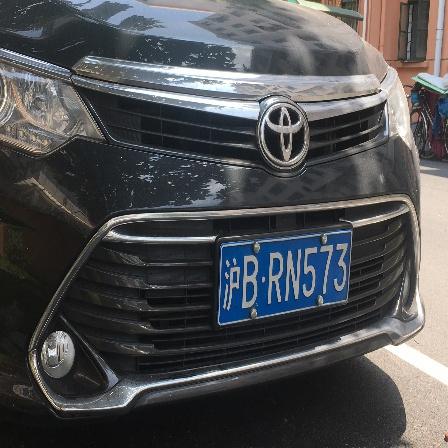plate: (208, 232, 364, 316)
